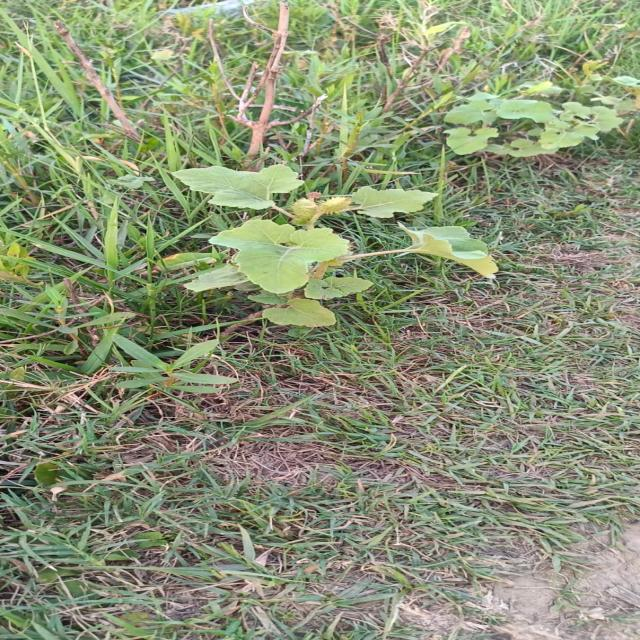plant: (171, 164, 497, 327), (444, 92, 623, 156)
